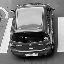motor: (12, 5, 48, 56)
